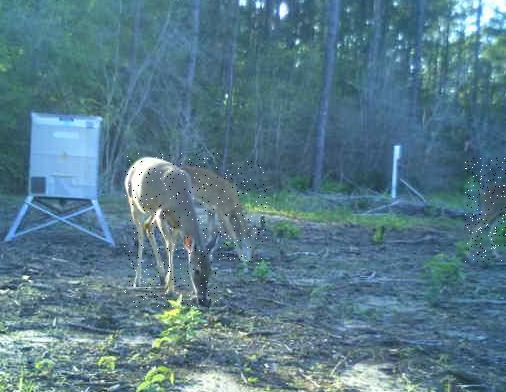Deer: (124, 153, 219, 308), (171, 160, 268, 264), (465, 158, 506, 262)
